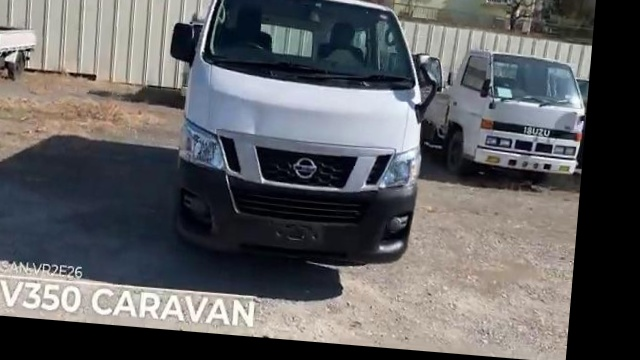van: (162, 0, 445, 270)
